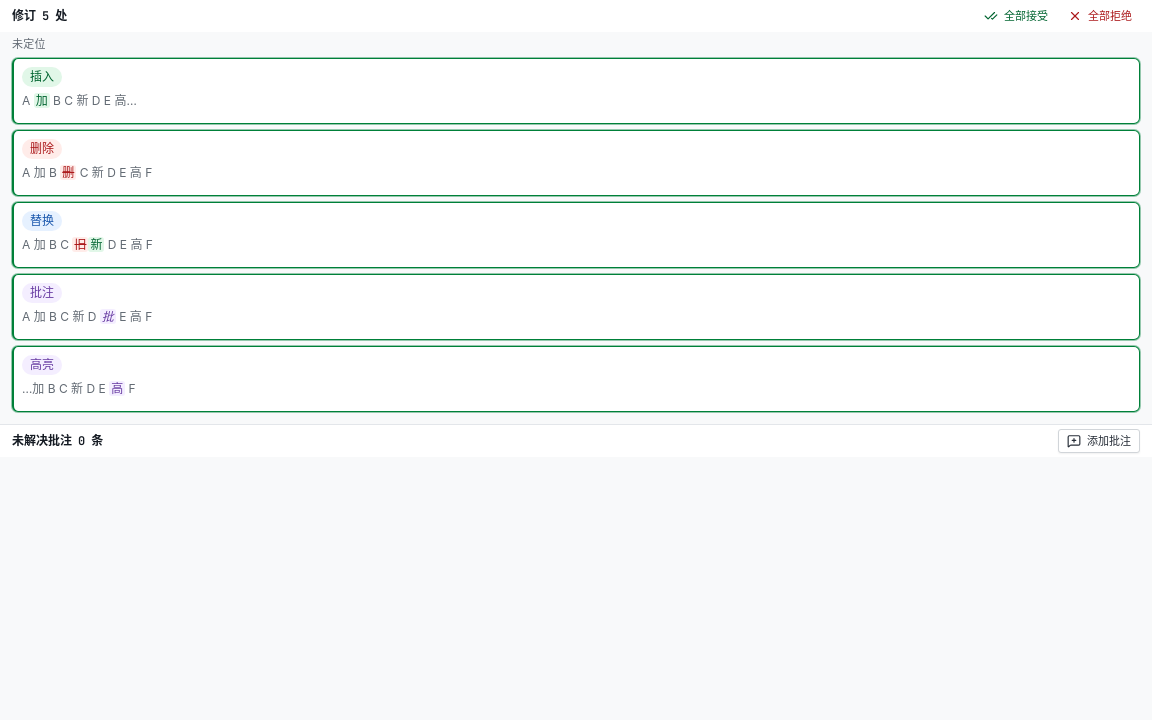
ReviewPanel：修订列表 + 批注线程（07 §7.2 / §7.4） › R115-批24：全部拒绝两阶确认——首击只 arm，取消不丢，确认才全丢
Click the button with test id "review-reject-all" at [1100, 16], box [1060,4,1140,28]
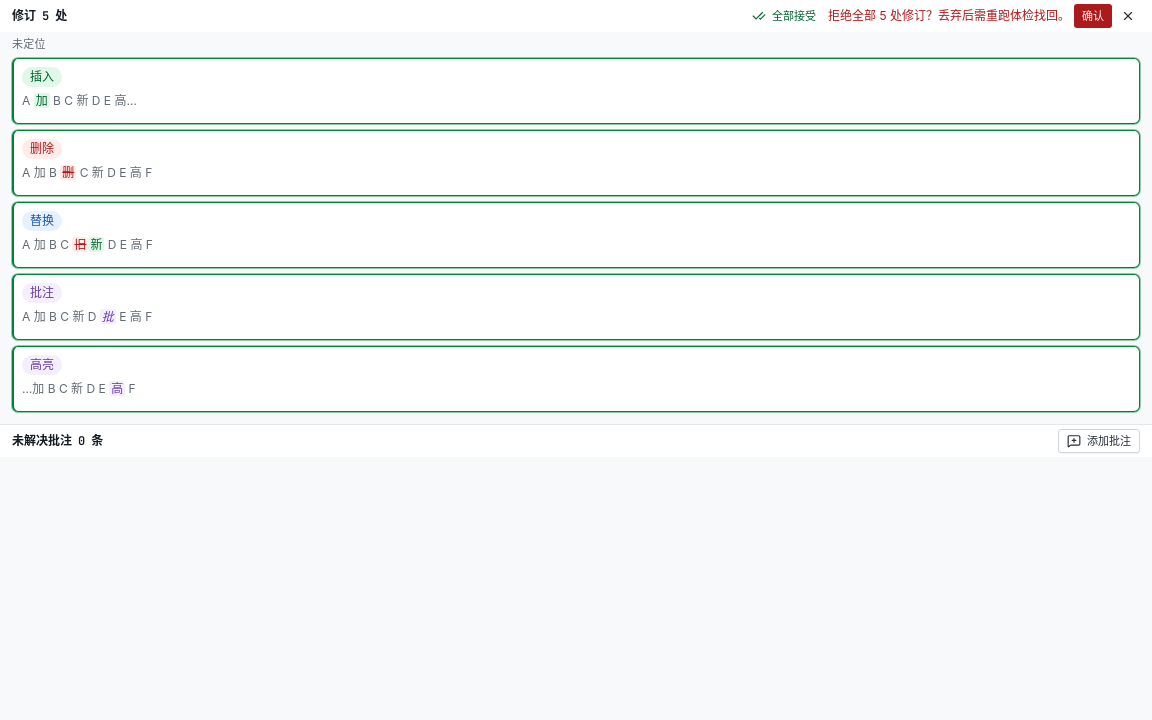
Result: the button with test id "review-reject-all-confirm" is shown at [1074,4,1112,28]
Click the button with test id "review-reject-all-cancel" at [1128, 16], box [1116,4,1140,28]
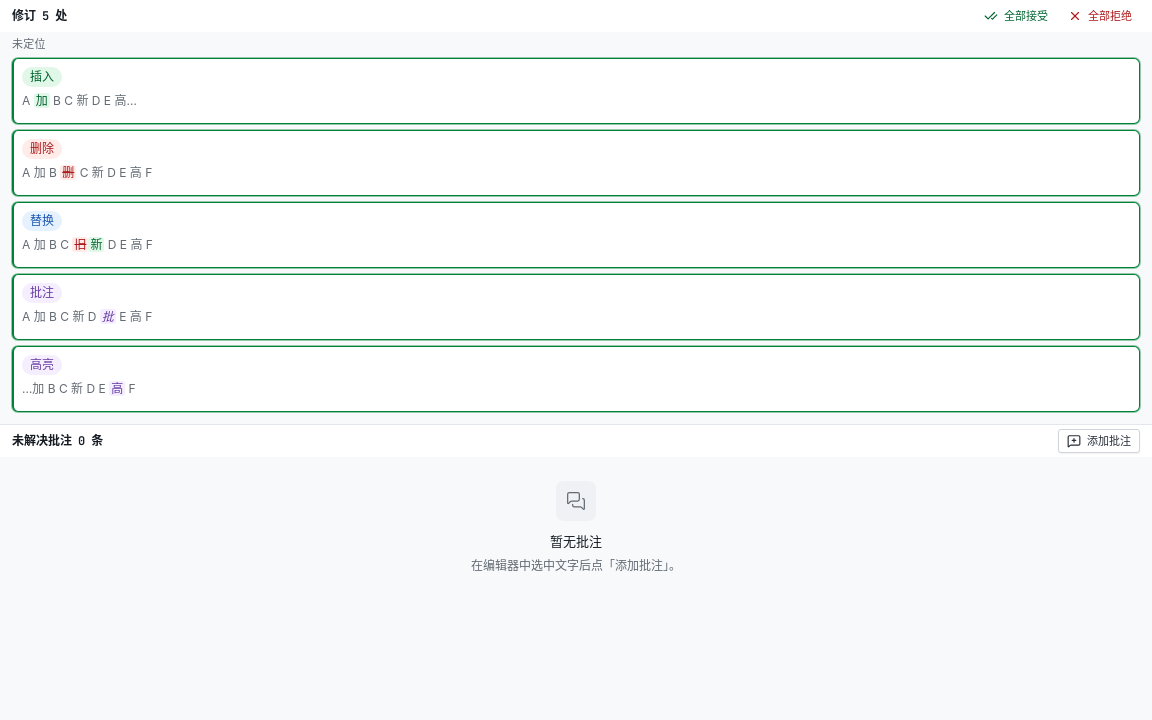
Result: the button with test id "review-reject-all-confirm" is gone
Click the button with test id "review-reject-all" at [1100, 16], box [1060,4,1140,28]
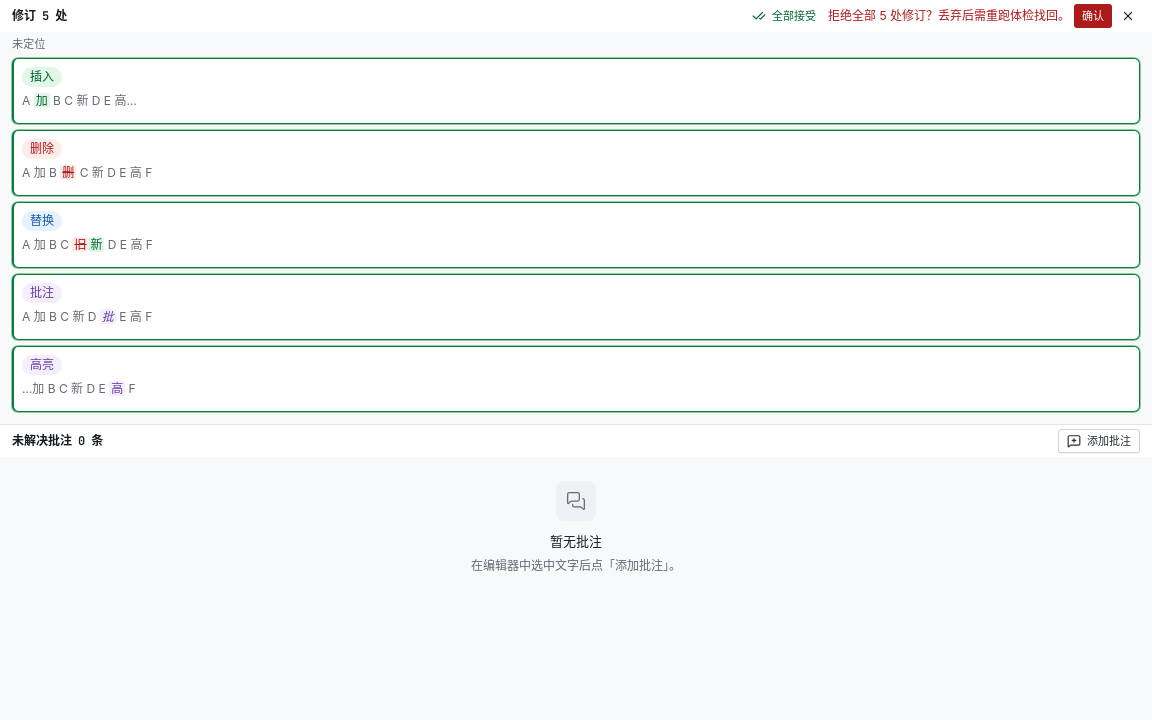
Click the button with test id "review-reject-all-confirm" at [1093, 16], box [1074,4,1112,28]
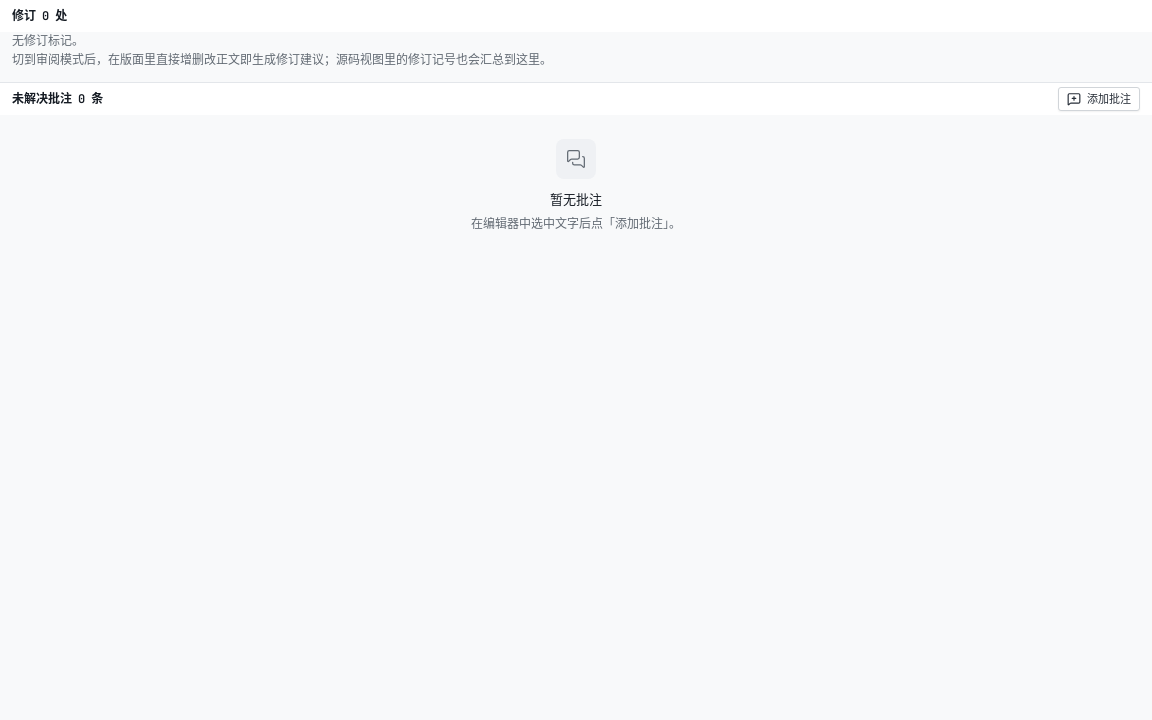
Result: the text "无修订标记" is shown at [12,33,84,48]
